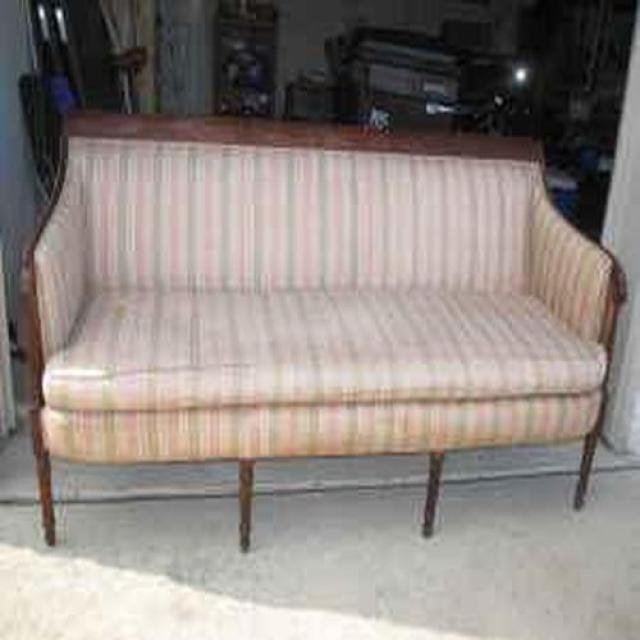sofa: (19, 109, 630, 556)
